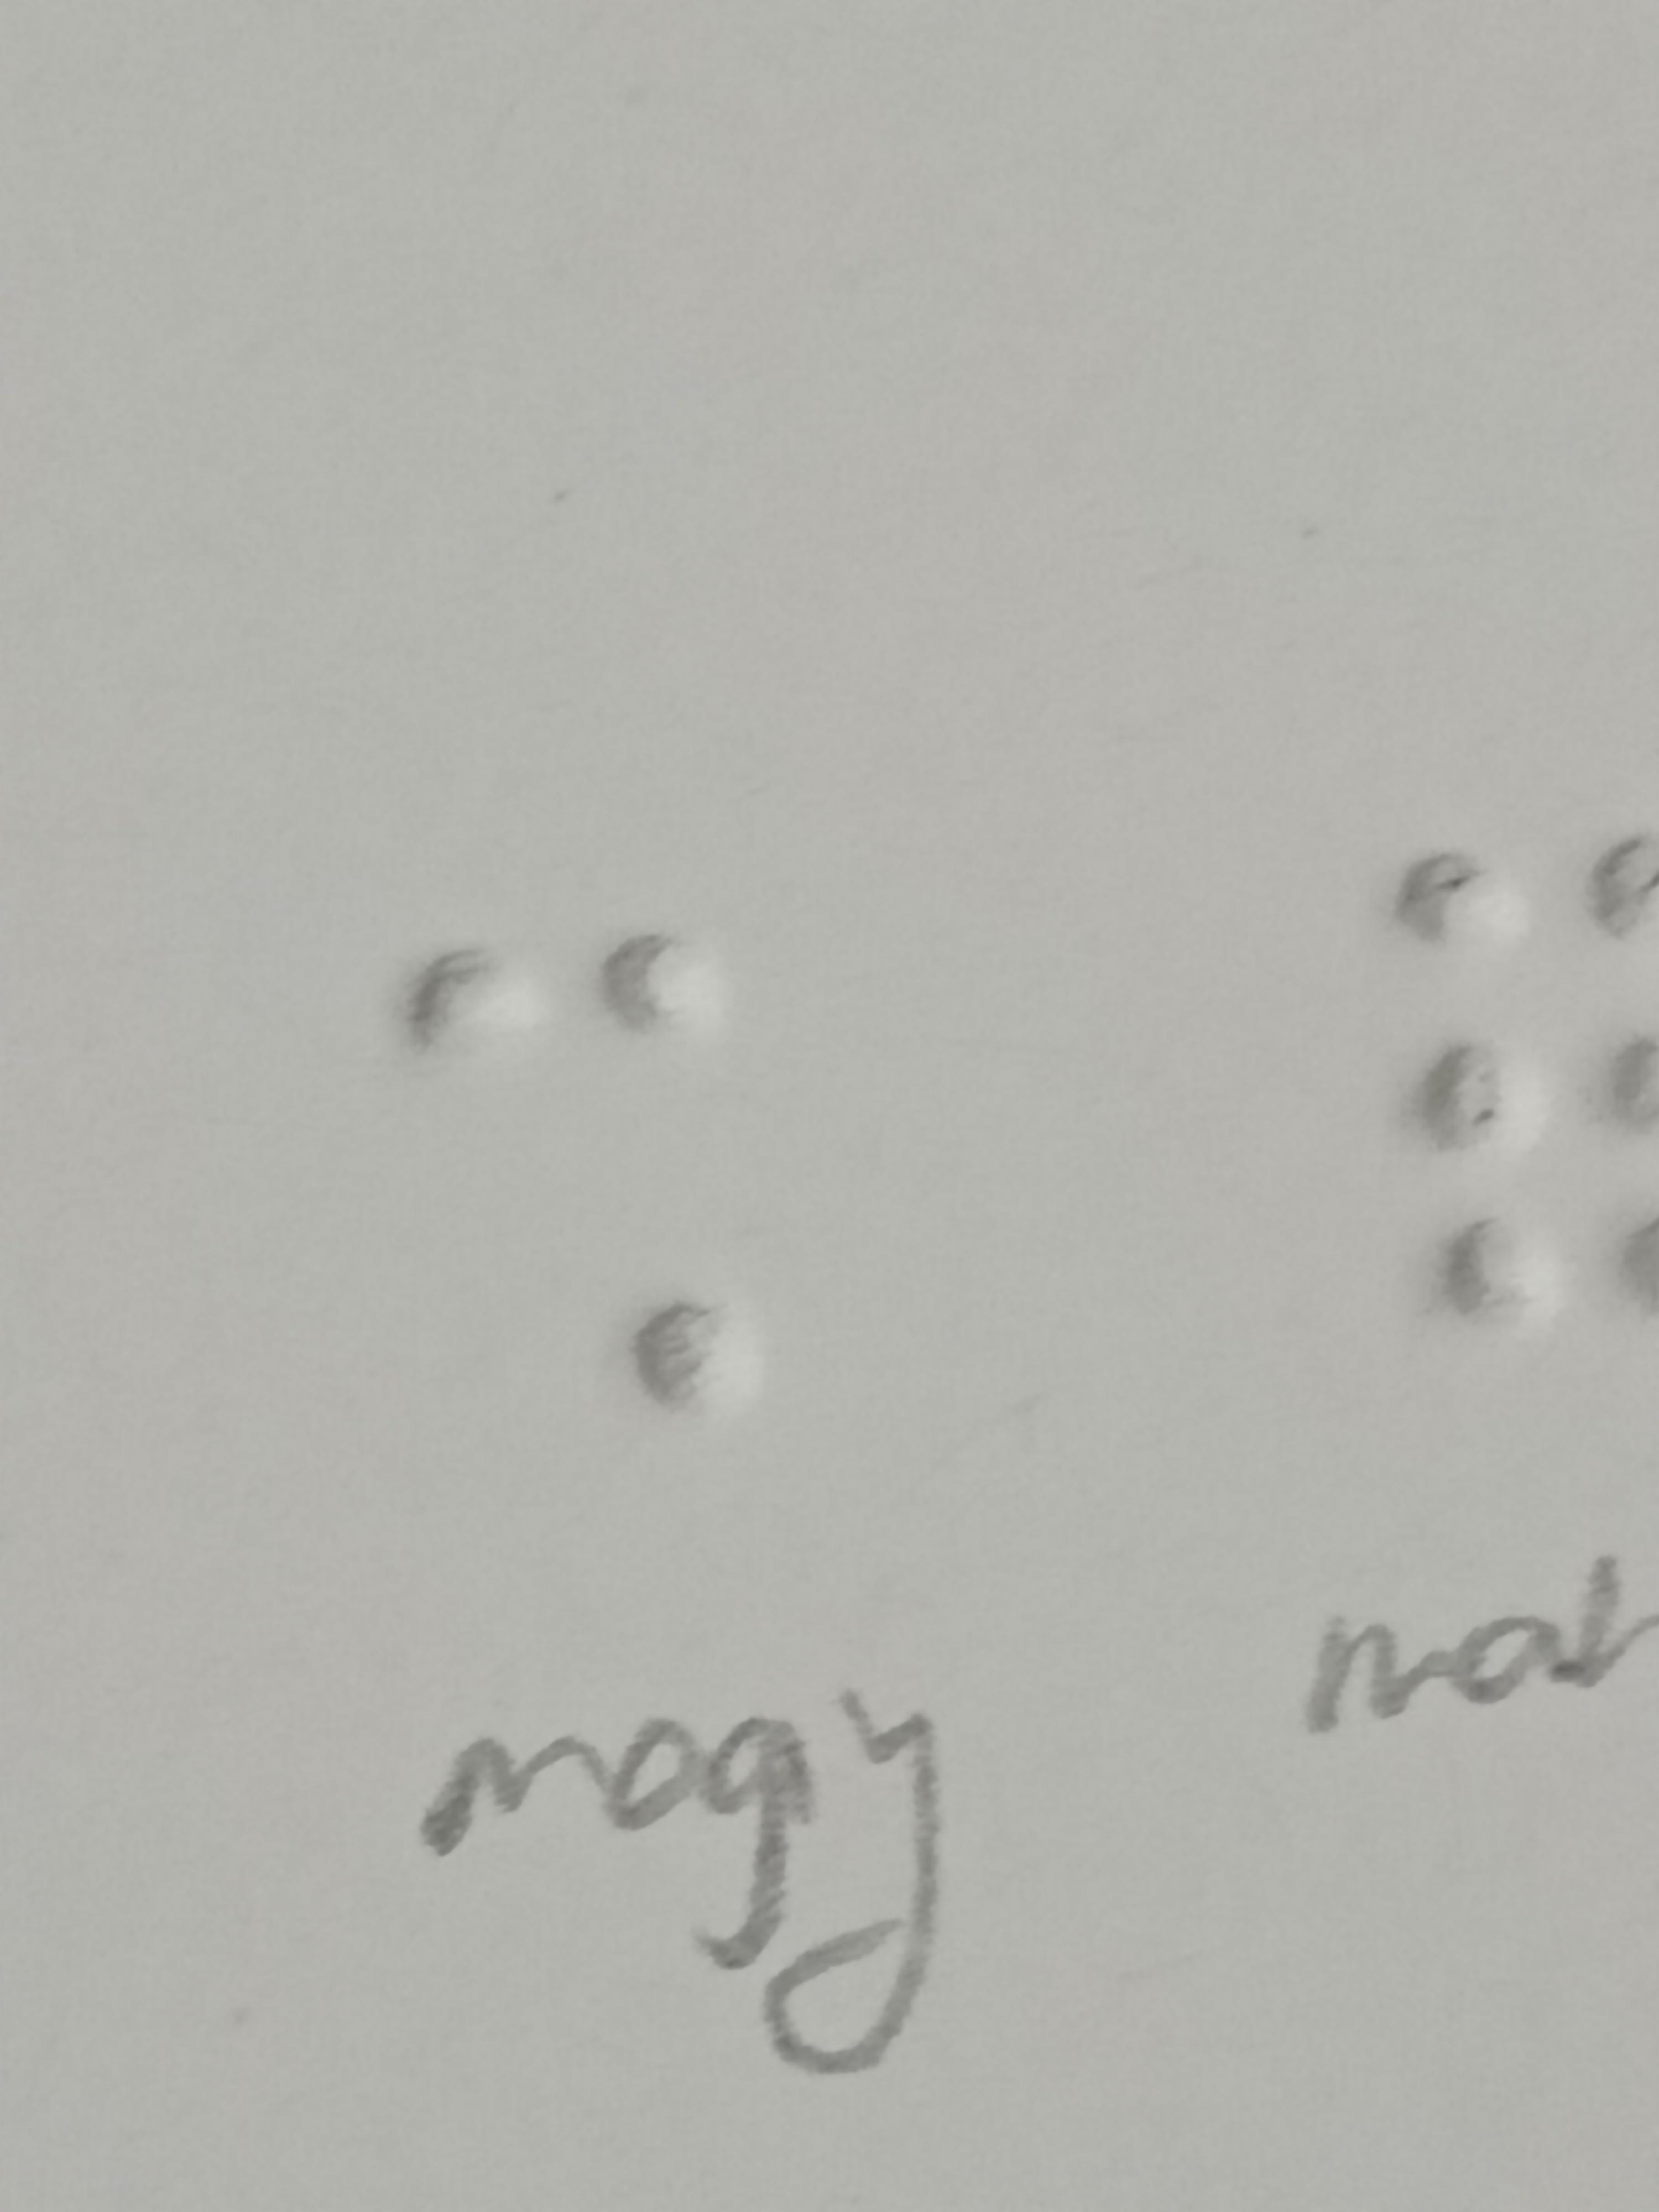one_cell_non_alphabet_maging: (410, 930, 735, 1437)
